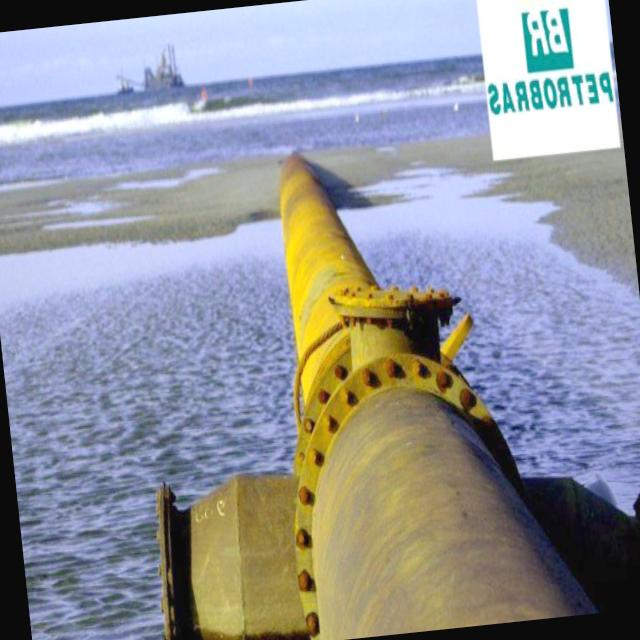gas: (272, 148, 567, 640)
